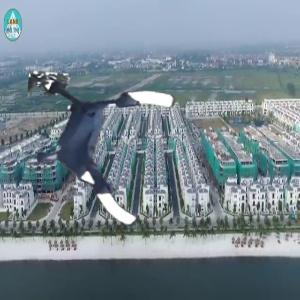drone: (24, 76, 175, 227)
